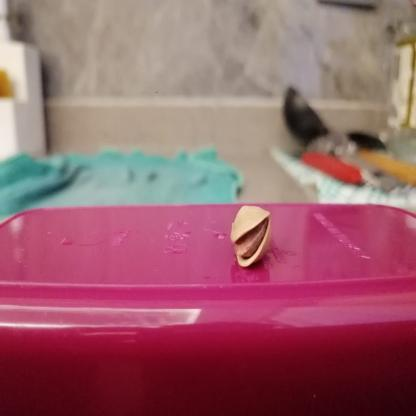pistachio: (222, 192, 278, 271)
